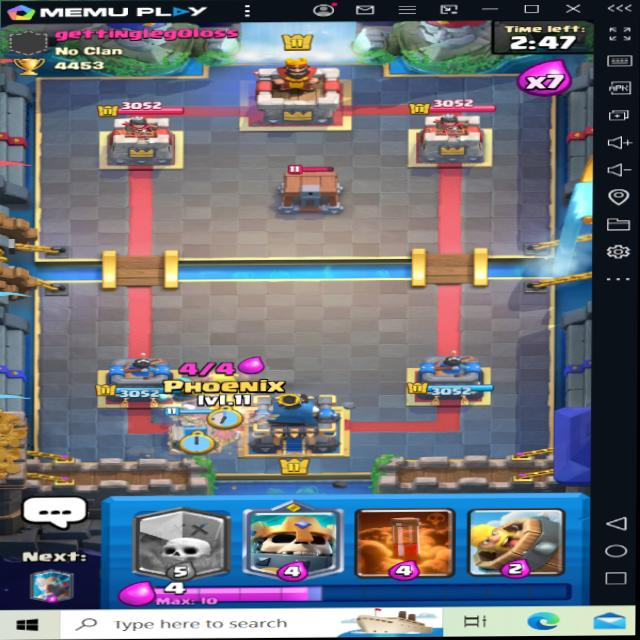Goblincage: (271, 164, 346, 214)
